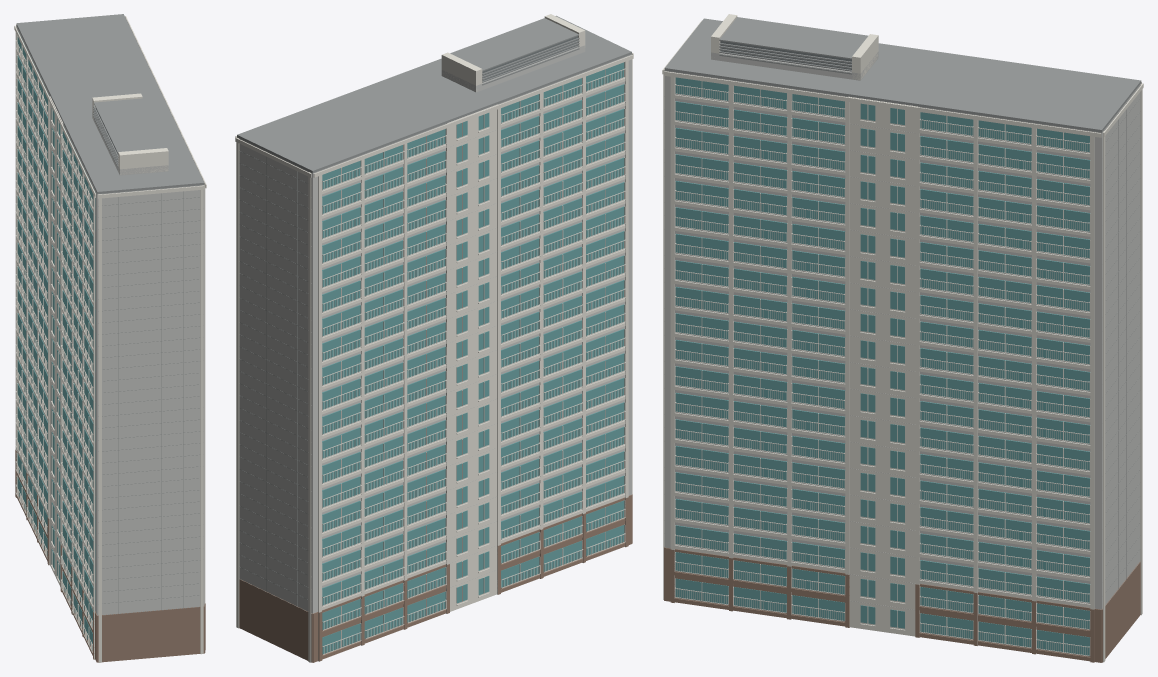
Rendered from bespoke-jamsil-els-127.glb.
The picture shows the model from 3 angles, left to right: view 1: azimuth 30°, elevation 25°; view 2: azimuth 150°, elevation 25°; view 3: azimuth 270°, elevation 25°; orthographic projection. The views are drawn at different scales.
Parts seen in each view (by area): view 1: Els127_editable_Els127_light_grey_solid_wall, Els127_editable_Els127_modest_grey_flat_roof_caps, Els127_editable_Els127_turquoise_balcony_glazing, Els127_white_exact_chunk_0, Els127_white_exact_chunk_1, Els127_white_exact_chunk_2, Els127_editable_Els127_muted_ground_wall, Els127_white_exact_chunk_4, Els127_white_exact_chunk_3; view 2: Els127_editable_Els127_turquoise_balcony_glazing, Els127_editable_Els127_light_grey_solid_wall, Els127_white_exact_chunk_0, Els127_white_exact_chunk_1, Els127_editable_Els127_modest_grey_flat_roof_caps, Els127_white_exact_chunk_2, Els127_editable_Els127_muted_ground_wall, Els127_white_exact_chunk_4, Els127_editable_Els127_narrow_charcoal_service_strips; view 3: Els127_editable_Els127_turquoise_balcony_glazing, Els127_white_exact_chunk_2, Els127_editable_Els127_light_grey_solid_wall, Els127_white_exact_chunk_3, Els127_editable_Els127_modest_grey_flat_roof_caps, Els127_white_exact_chunk_4, Els127_editable_Els127_muted_ground_wall, Els127_white_exact_chunk_0, Els127_editable_Els127_narrow_charcoal_service_strips.
Part boxes in pixels (bbox=[...]): Els127_editable_Els127_light_grey_solid_wall: bbox=[16, 26, 204, 615]; Els127_editable_Els127_modest_grey_flat_roof_caps: bbox=[16, 14, 204, 615]; Els127_editable_Els127_turquoise_balcony_glazing: bbox=[17, 32, 95, 649]; Els127_white_exact_chunk_0: bbox=[15, 24, 63, 586]; Els127_white_exact_chunk_1: bbox=[15, 28, 93, 652]; Els127_white_exact_chunk_2: bbox=[14, 25, 204, 662]; Els127_editable_Els127_muted_ground_wall: bbox=[15, 450, 205, 662]; Els127_white_exact_chunk_4: bbox=[92, 16, 206, 188]; Els127_white_exact_chunk_3: bbox=[171, 114, 205, 604]; Els127_editable_Els127_turquoise_balcony_glazing: bbox=[322, 62, 624, 653]; Els127_editable_Els127_light_grey_solid_wall: bbox=[237, 45, 631, 613]; Els127_white_exact_chunk_0: bbox=[235, 104, 498, 662]; Els127_white_exact_chunk_1: bbox=[318, 78, 625, 660]; Els127_editable_Els127_modest_grey_flat_roof_caps: bbox=[237, 15, 631, 611]; Els127_white_exact_chunk_2: bbox=[313, 53, 633, 594]; Els127_editable_Els127_muted_ground_wall: bbox=[239, 494, 632, 662]; Els127_white_exact_chunk_4: bbox=[235, 14, 585, 137]; Els127_editable_Els127_narrow_charcoal_service_strips: bbox=[482, 36, 577, 80]; Els127_editable_Els127_turquoise_balcony_glazing: bbox=[675, 77, 1090, 655]; Els127_white_exact_chunk_2: bbox=[662, 20, 1141, 636]; Els127_editable_Els127_light_grey_solid_wall: bbox=[664, 51, 1141, 609]; Els127_white_exact_chunk_3: bbox=[670, 72, 1090, 656]; Els127_editable_Els127_modest_grey_flat_roof_caps: bbox=[664, 17, 1141, 605]; Els127_white_exact_chunk_4: bbox=[664, 14, 1101, 653]; Els127_editable_Els127_muted_ground_wall: bbox=[664, 547, 1140, 662]; Els127_white_exact_chunk_0: bbox=[1103, 83, 1143, 662]; Els127_editable_Els127_narrow_charcoal_service_strips: bbox=[720, 41, 851, 69].
Size of the model in its own units: 23.86 by 54.35 by 42.69.
